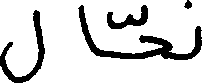ا: (78, 3, 98, 56)
ح: (135, 28, 174, 59)
ل: (0, 8, 44, 81)
ن: (182, 0, 200, 57)
